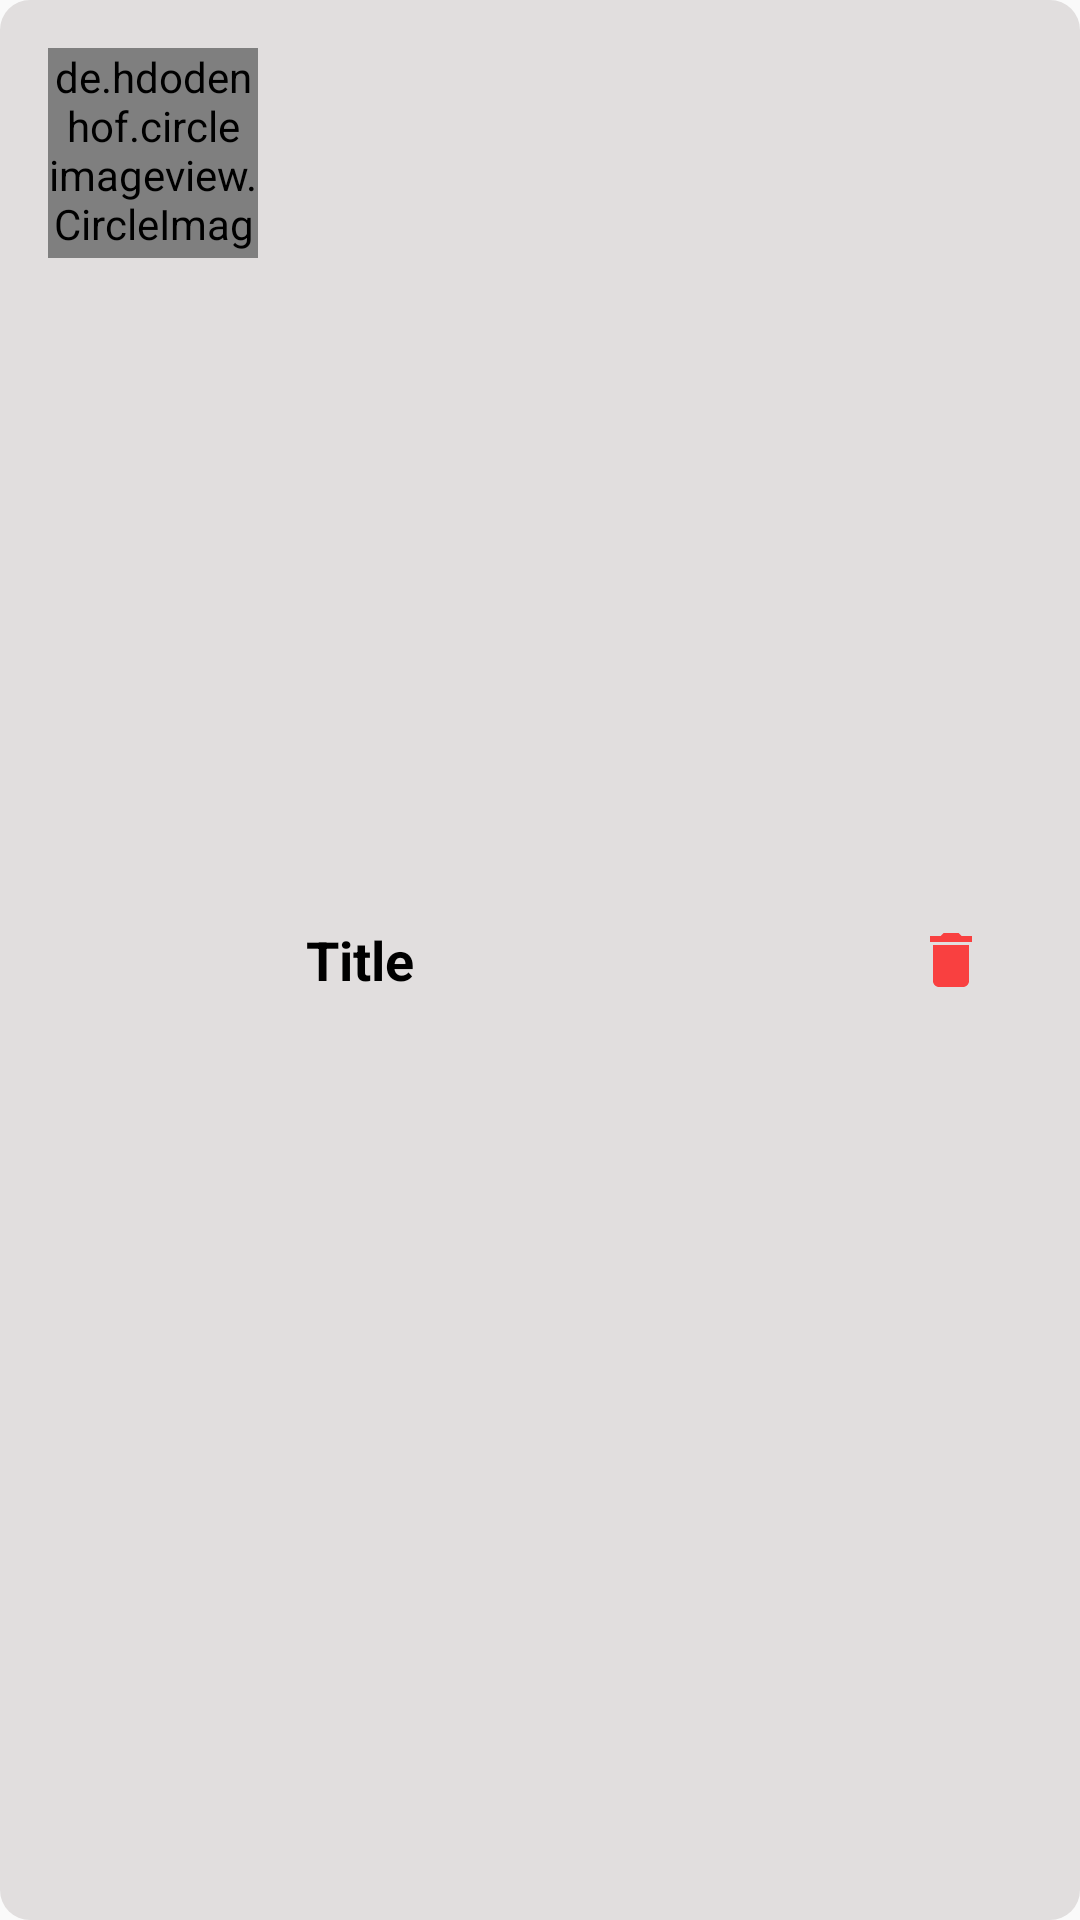

Locate icon controls on the screen. Image size 1080*1920, boxes as (x1, y1, x2, y2).
delete: (930, 933, 972, 987)
